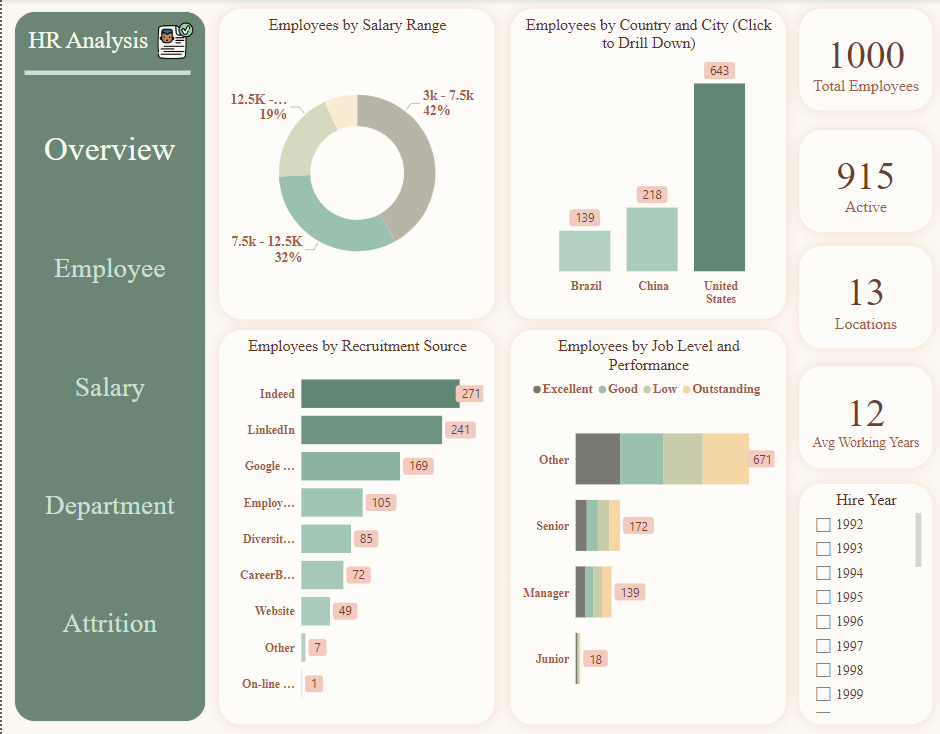

This screenshot's page, from the dashboard's own definition file:
{"tool":"powerbi","page":{"name":"Overview","canvas":[1280,1000],"ordinal":0},"visuals":[{"type":"clusteredColumnChart","title":"Employees by Country and City (Click to Drill Down)","fields":{"Y":["CountNonNull(Employee_Data.EEID)"],"Category":["Countries.Country","Cities.City"]},"box":[691.2,13.6,373.6,421.2],"z":0},{"type":"textbox","box":[30,31.9,244.8,50.1],"z":0,"group":"g1"},{"type":"shape","box":[13.6,13.6,266.6,971.5],"z":1000},{"type":"image","box":[186.1,27.2,97,59.4],"z":1000,"group":"g1"},{"type":"pageNavigator","box":[34,108.7,225.9,818.6],"z":2000},{"type":"group","id":"g1","title":"Group 1","box":[30,27.2,253.1,59.4],"z":3000},{"type":"shape","box":[30,86,225.9,27.2],"z":4000},{"type":"clusteredBarChart","title":"Employees by Recruitment Source","fields":{"Category":["Employee_Data.Recruitment_Source"],"Y":["Count(Employee_Data.EEID)"]},"box":[295.5,450.1,373.6,535],"z":5000},{"type":"donutChart","title":"Employees by Salary Range","fields":{"Category":["Employee_Data.Salary_Range"],"Y":["Count(Employee_Data.EEID)"]},"box":[295.5,13.6,373.6,421.2],"z":6000},{"type":"barChart","title":"Employees by Job Level and Performance","fields":{"Series":["Employee_Data.Performance"],"Y":["CountNonNull(Employee_Data.EEID)"],"Category":["Employee_Data.Job_Level"]},"box":[691.2,450.1,373.6,535],"z":7000},{"type":"card","fields":{"Values":["All_Measures.TotalEmployees"]},"box":[1083.6,13.6,180,137.6],"z":8000},{"type":"card","fields":{"Values":["All_Measures.Active"]},"box":[1083.6,178.3,180,137.6],"z":9000},{"type":"card","fields":{"Values":["All_Measures.Locations"]},"box":[1083.6,336.3,180,137.6],"z":10000},{"type":"card","fields":{"Values":["All_Measures.Average_Years_AtComany"]},"box":[1083.6,499.3,180,137.6],"z":11000},{"type":"slicer","title":"Hire Year","fields":{"Values":["Employee_Data.Hire_ Date.Variation.Date Hierarchy.Year"]},"box":[1083.6,659,180,326.1],"z":12000}]}

Visuals, with their boxes in screenshot pixels (x1, y1, x2, y2), scaled from the page's 1280x1000 canvas onto the 940x734 screenshot:
"Employees by Country and City (Click to Drill Down)" clusteredColumnChart: <bbox>508, 10, 782, 319</bbox>
textbox: <bbox>22, 23, 202, 60</bbox>
shape: <bbox>10, 10, 206, 723</bbox>
image: <bbox>137, 20, 208, 64</bbox>
pageNavigator: <bbox>25, 80, 191, 681</bbox>
"Group 1" group: <bbox>22, 20, 208, 64</bbox>
shape: <bbox>22, 63, 188, 83</bbox>
"Employees by Recruitment Source" clusteredBarChart: <bbox>217, 330, 491, 723</bbox>
"Employees by Salary Range" donutChart: <bbox>217, 10, 491, 319</bbox>
"Employees by Job Level and Performance" barChart: <bbox>508, 330, 782, 723</bbox>
card - All_Measures.TotalEmployees: <bbox>796, 10, 928, 111</bbox>
card - All_Measures.Active: <bbox>796, 131, 928, 232</bbox>
card - All_Measures.Locations: <bbox>796, 247, 928, 348</bbox>
card - All_Measures.Average_Years_AtComany: <bbox>796, 366, 928, 467</bbox>
"Hire Year" slicer: <bbox>796, 484, 928, 723</bbox>
